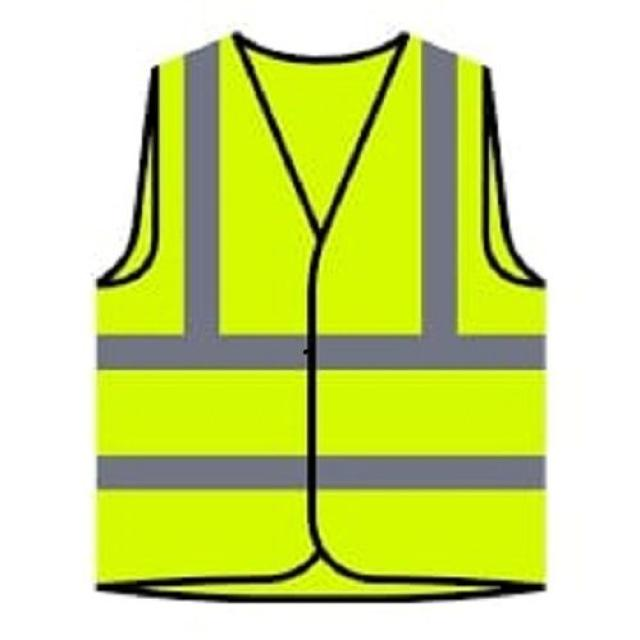safety_helmet: (89, 26, 551, 607)
